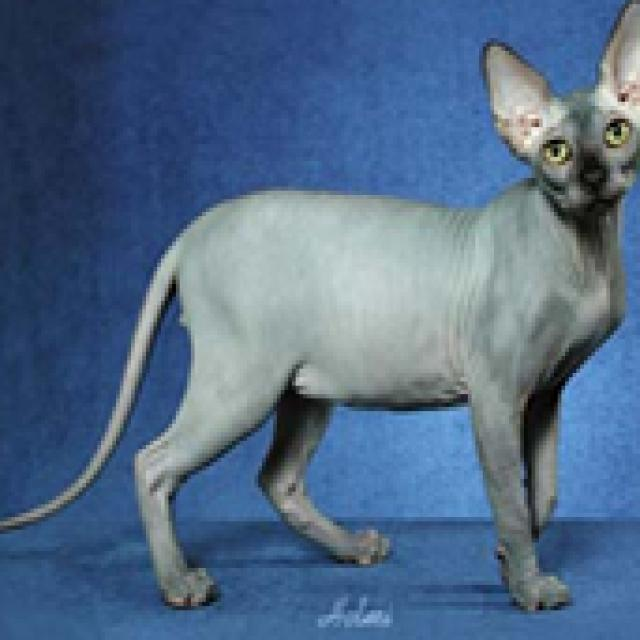Sphynx: (0, 0, 640, 619)
